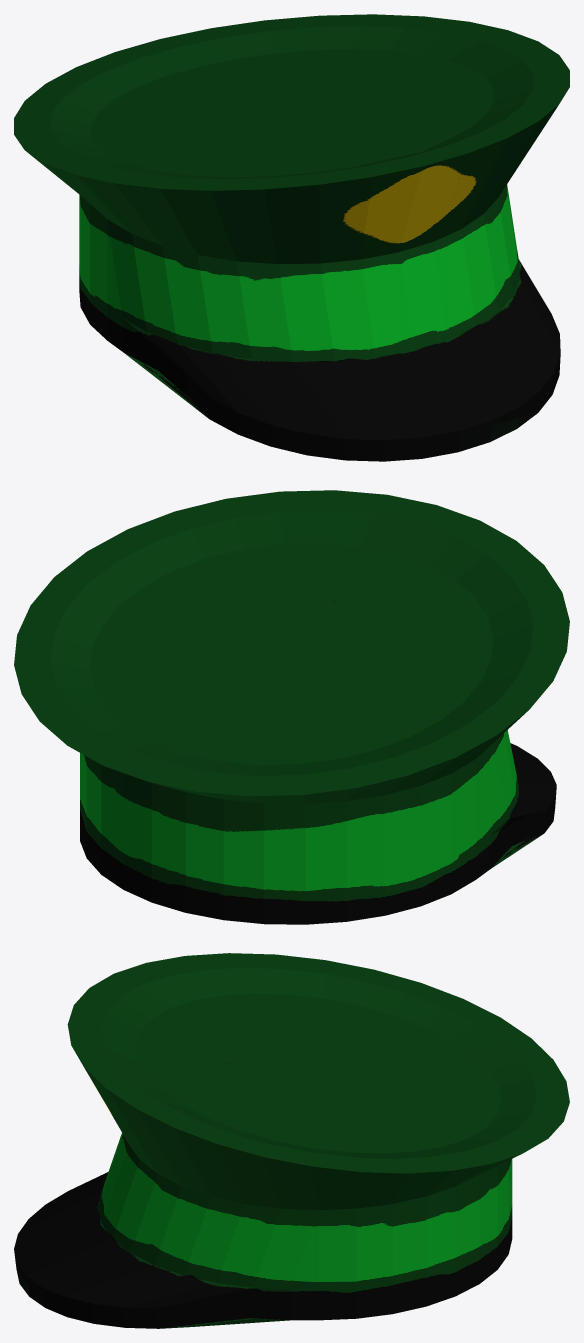
The model's file is cap.fbx.
The picture shows the model from 3 angles, top to bottom: view 1: azimuth 30°, elevation 25°; view 2: azimuth 150°, elevation 25°; view 3: azimuth 270°, elevation 25°; orthographic projection. The views are drawn at different scales.
Parts seen in each view (by area): view 1: PoliceCap; view 2: PoliceCap; view 3: PoliceCap.
Part boxes in pixels (x1,y1,x2,y2): PoliceCap: (14,14,569,461); PoliceCap: (14,490,569,924); PoliceCap: (14,953,569,1328).
Bounding box in the file's own units: 31.67 × 16.65 × 34.64.
Materials: 1 (1 with a texture image).
